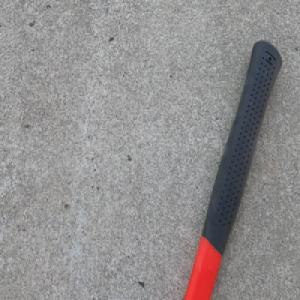Hammer: (183, 39, 284, 300)
